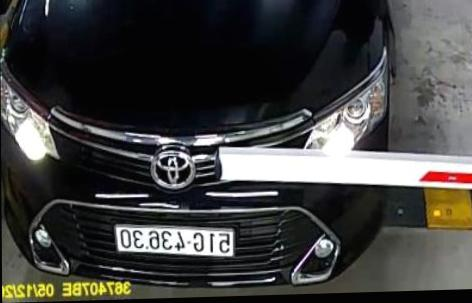License_Plate: (110, 218, 242, 264)
